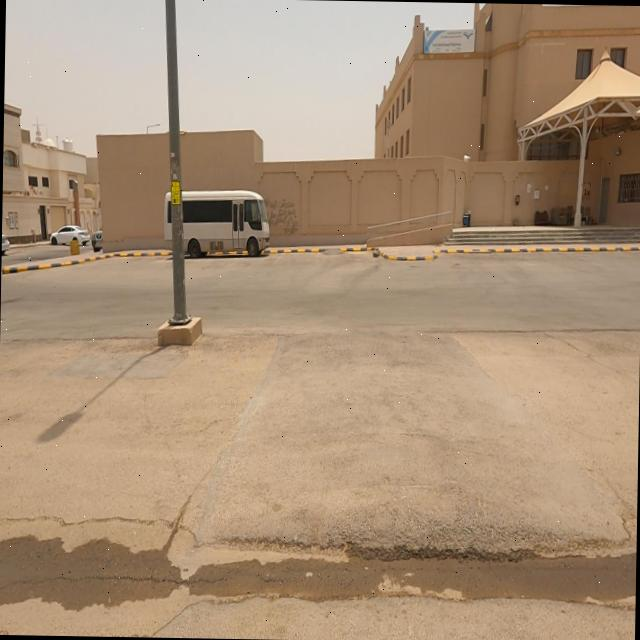Graffiti: (262, 198, 300, 237)
